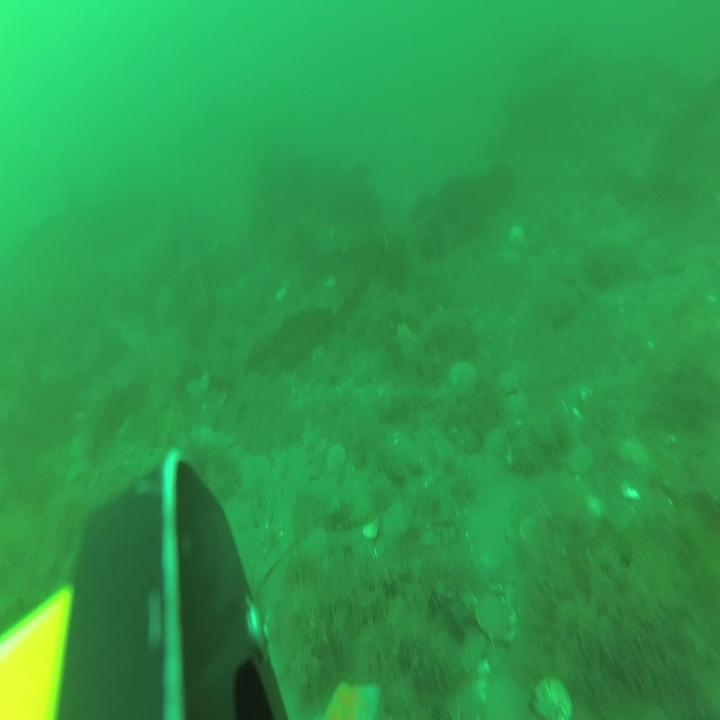scallop: (529, 673, 573, 720), (474, 593, 511, 645), (565, 440, 597, 475), (621, 430, 649, 468), (482, 425, 508, 461), (497, 365, 522, 397), (306, 522, 328, 558), (325, 441, 347, 476), (518, 512, 539, 548), (509, 220, 527, 250), (362, 516, 379, 542)
starfish: (322, 675, 382, 720), (448, 354, 476, 393)
